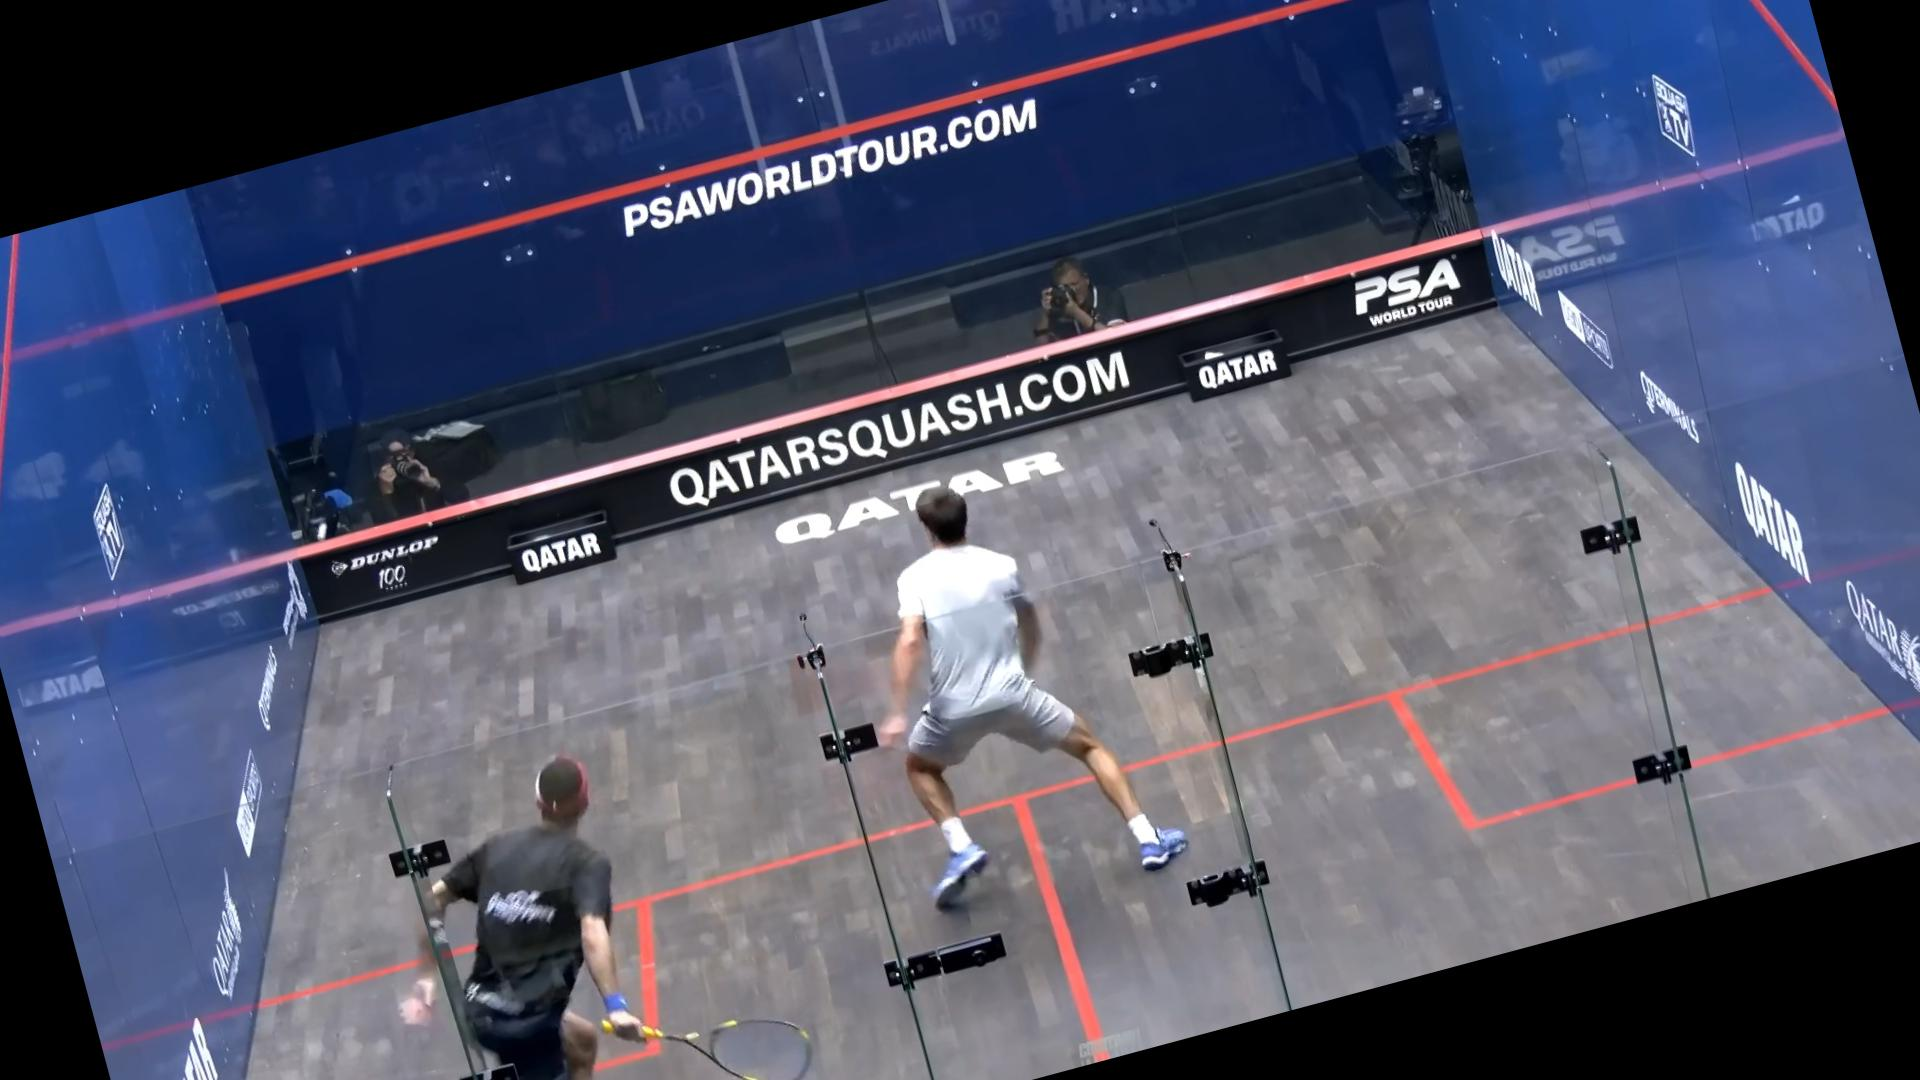Racket: (644, 969, 829, 1080)
